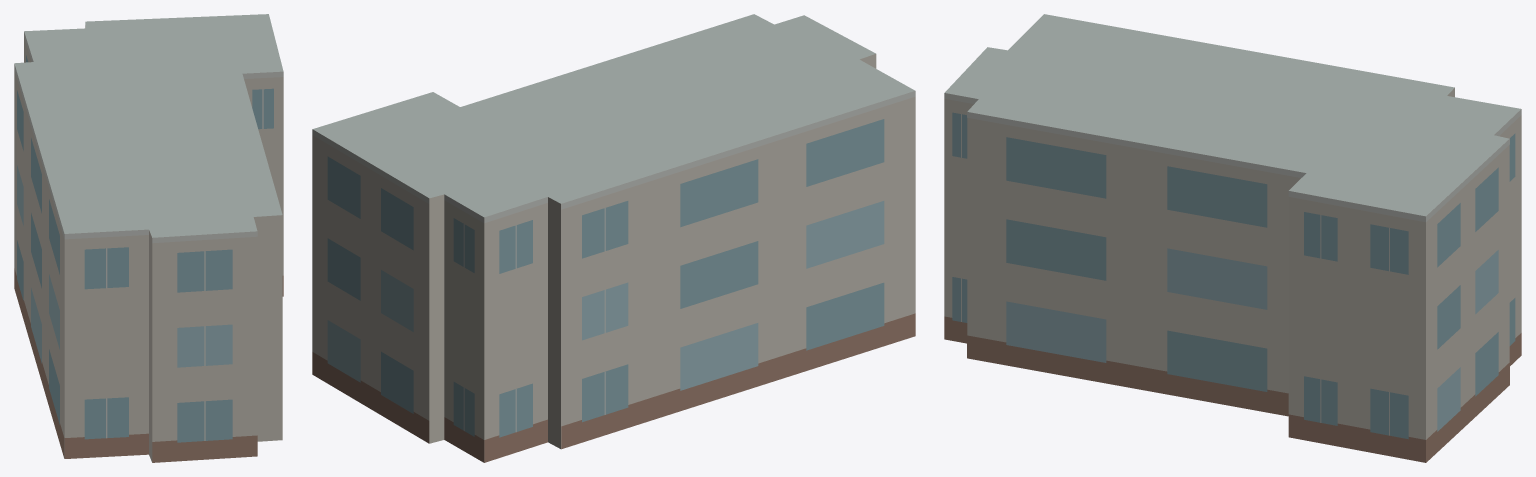
The model's file is survey-upis-32948887.glb.
3 views of the same model, side by side, from view 1: azimuth 30°, elevation 25°; view 2: azimuth 150°, elevation 25°; view 3: azimuth 270°, elevation 25° (orthographic). The views are drawn at different scales.
Parts seen in each view (by area): view 1: survey-upis-32948887.tmp; view 2: survey-upis-32948887.tmp; view 3: survey-upis-32948887.tmp.
Part boxes in pixels (x1,y1,x2,y2): survey-upis-32948887.tmp: (14,14,283,462); survey-upis-32948887.tmp: (312,14,915,462); survey-upis-32948887.tmp: (944,14,1521,462).
Bounding box in the file's own units: 17.97 × 10.2 × 21.65.
